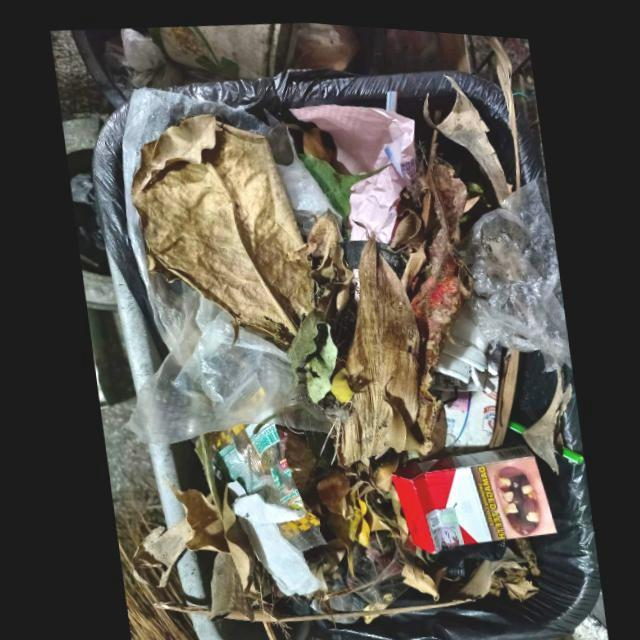cardboard: (388, 436, 553, 546)
food_wrapper: (209, 418, 322, 547)
paper: (288, 97, 415, 237), (226, 487, 317, 591)
